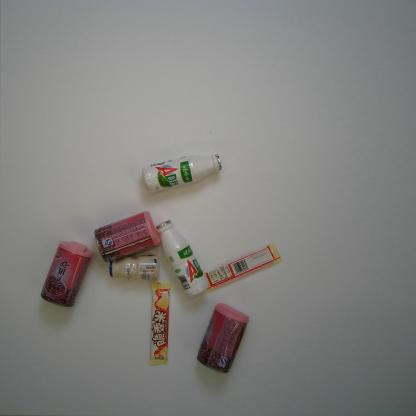Canned Food: (196, 302, 250, 374), (40, 240, 94, 308), (94, 210, 160, 263)
Chocolate: (204, 243, 283, 293), (148, 280, 172, 367)
Milk: (156, 219, 210, 298), (141, 153, 222, 193), (109, 254, 160, 281)
